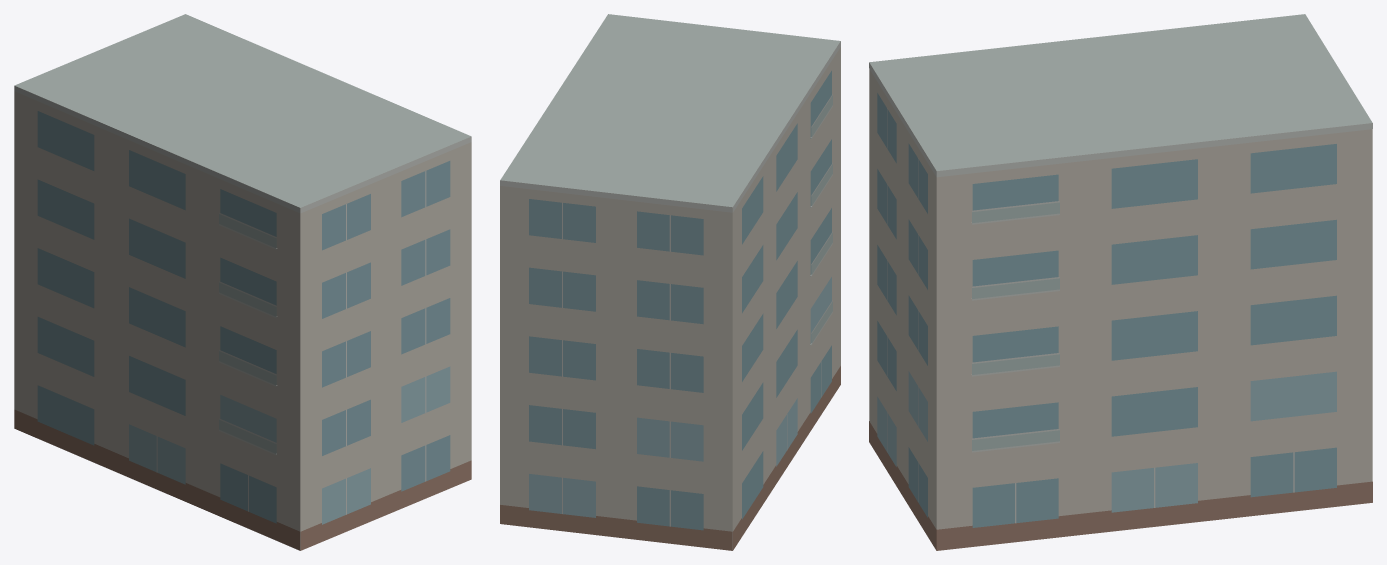
The model's file is survey-upis-32652203.glb.
3 renders of one model, left to right at view 1: azimuth 30°, elevation 25°; view 2: azimuth 150°, elevation 25°; view 3: azimuth 270°, elevation 25°, orthographic. The views are drawn at different scales.
Visible parts, largest first — view 1: survey-upis-32652203.tmp; view 2: survey-upis-32652203.tmp; view 3: survey-upis-32652203.tmp.
Part boxes in pixels (x1,y1,x2,y2): survey-upis-32652203.tmp: (14, 14, 471, 550); survey-upis-32652203.tmp: (500, 14, 840, 550); survey-upis-32652203.tmp: (869, 14, 1372, 550).
Size of the model in its own units: 13.41 by 15.1 by 18.16.
